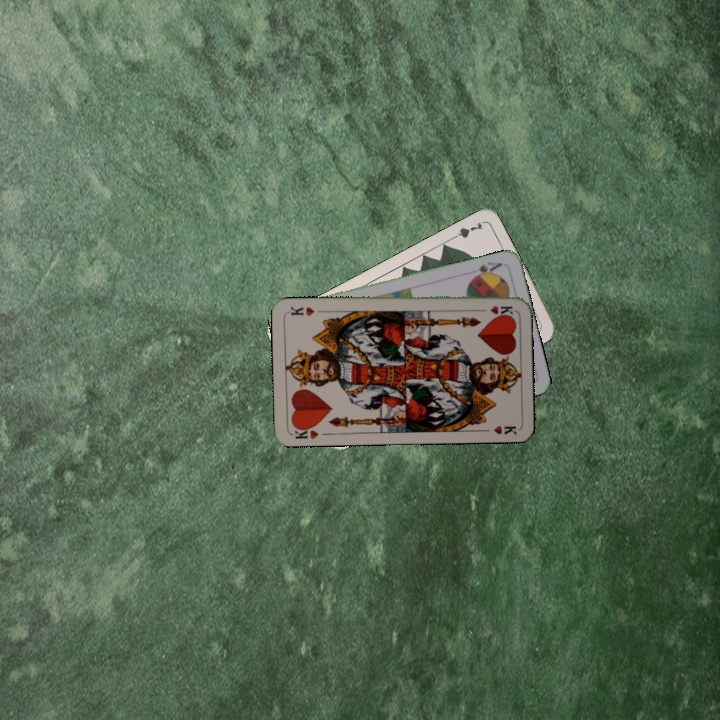G7: (446, 218, 486, 243)
HK: (290, 421, 321, 441), (475, 302, 515, 317)
SA: (468, 258, 505, 282)
